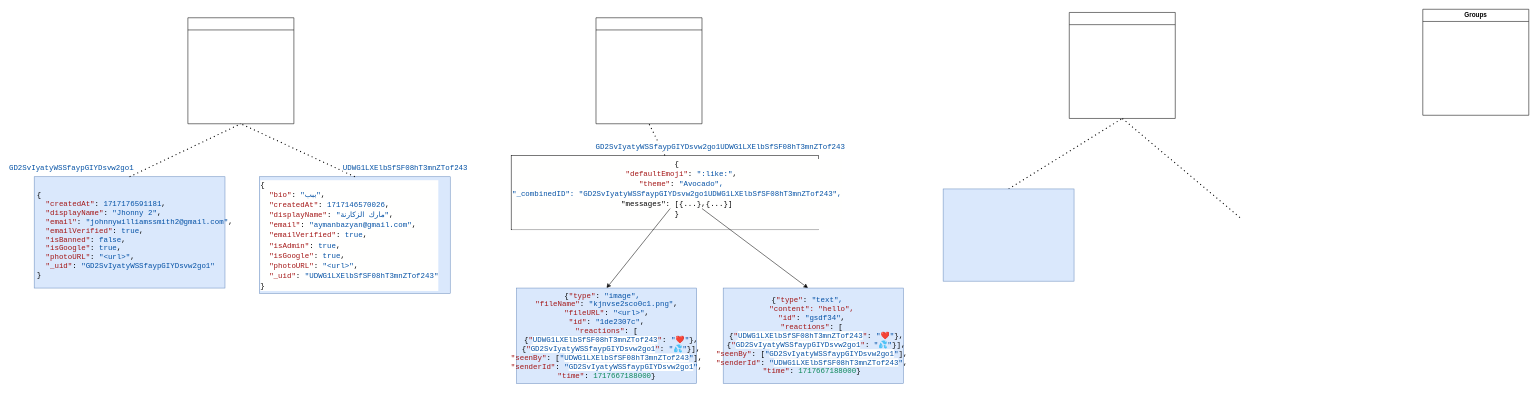
This 1538x393 diagram has some shape labels left out. The centre of each missing label's shape, as x and y in pixels:
Accounts: the point at 240,70
Chats: the point at 648,70
User chats: the point at 1122,65
